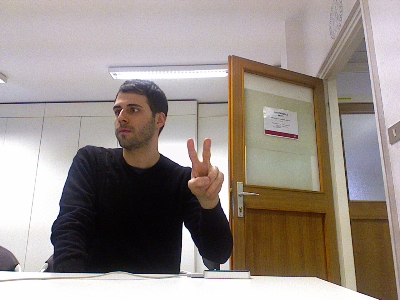剪刀: (185, 137, 224, 203)
